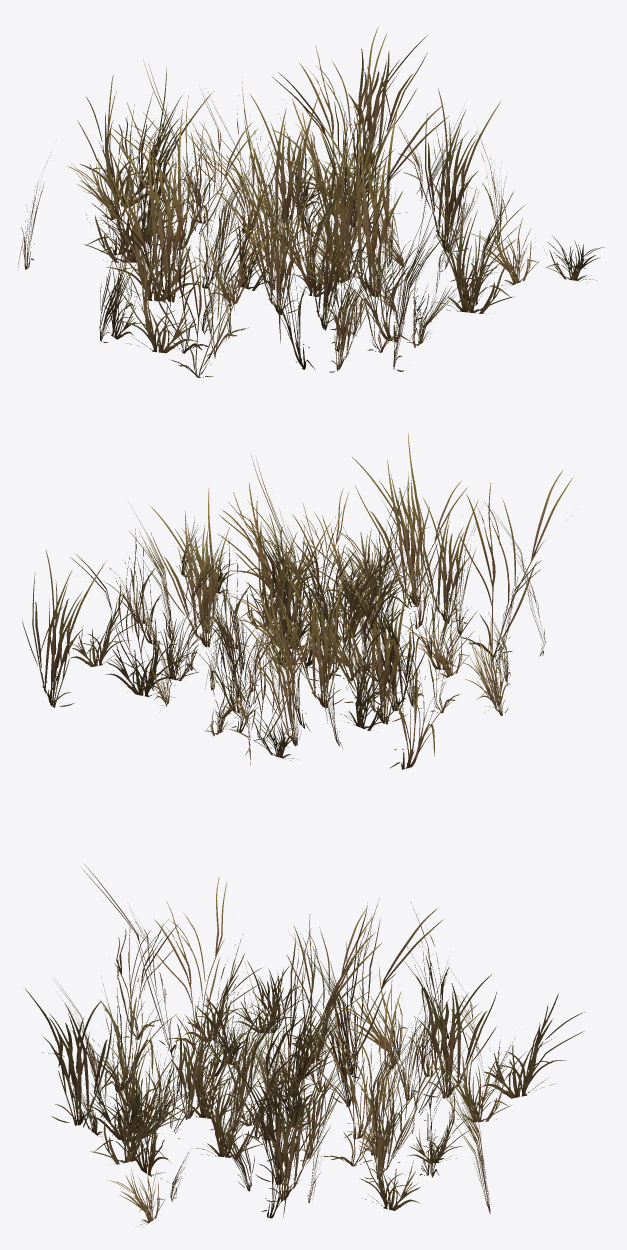
3 renders of one model, top to bottom at view 1: azimuth 30°, elevation 25°; view 2: azimuth 150°, elevation 25°; view 3: azimuth 270°, elevation 25°, orthographic. The views are drawn at different scales.
Visible parts, largest first — view 1: grasspatch3; view 2: grasspatch3; view 3: grasspatch3.
Part boxes in pixels (<box>): grasspatch3: <box>17,26,603,377</box>; grasspatch3: <box>22,433,572,769</box>; grasspatch3: <box>25,864,584,1226</box>.
Size of the model in its own units: 1.34 by 0.6 by 1.51.
Materials: 1 (1 with a texture image).
